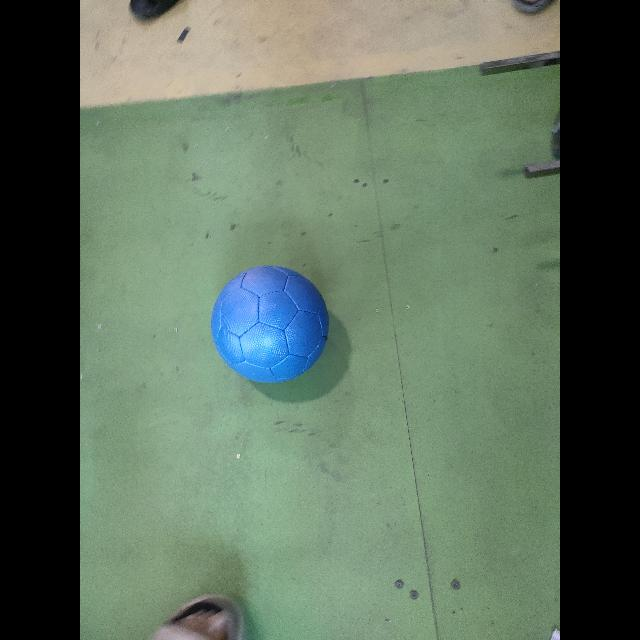B: (210, 265, 330, 386)
